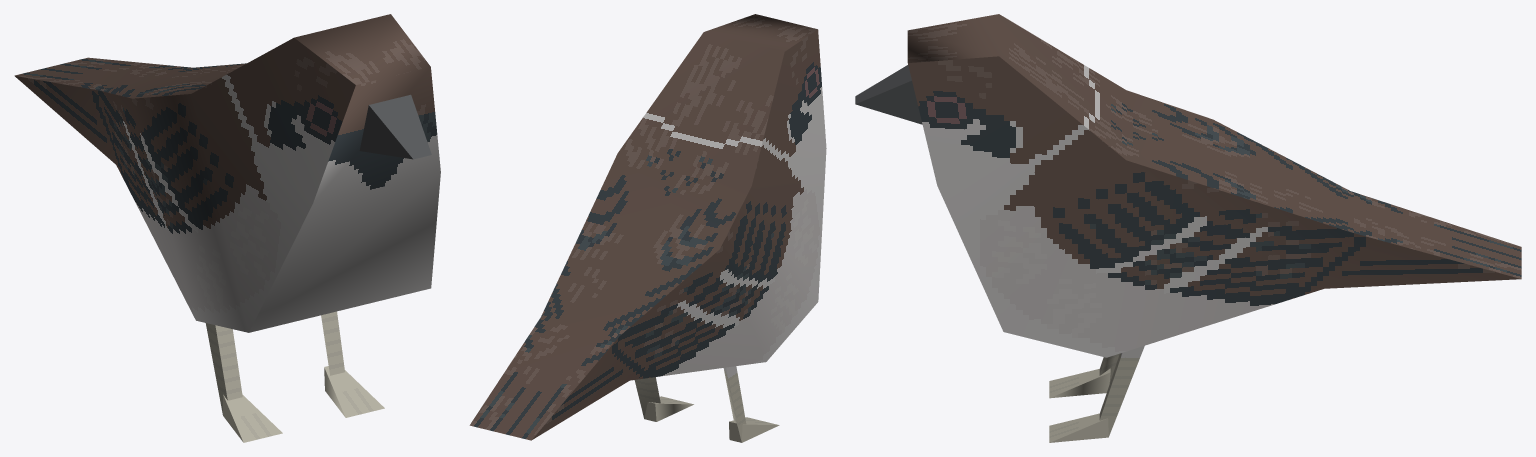
Rendered from 020d_Sparrow.glb.
The picture shows the model from 3 angles, left to right: view 1: azimuth 30°, elevation 25°; view 2: azimuth 150°, elevation 25°; view 3: azimuth 270°, elevation 25°; orthographic projection. The views are drawn at different scales.
Visible parts, largest first — view 1: part_0; view 2: part_0; view 3: part_0.
Part boxes in pixels (bbox=[...]): part_0: bbox=[14, 14, 440, 442]; part_0: bbox=[469, 14, 826, 442]; part_0: bbox=[855, 14, 1521, 442].
Size of the model in its own units: 0.0398 by 0.0877 by 0.1405.
Materials: 1 (1 with a texture image).
